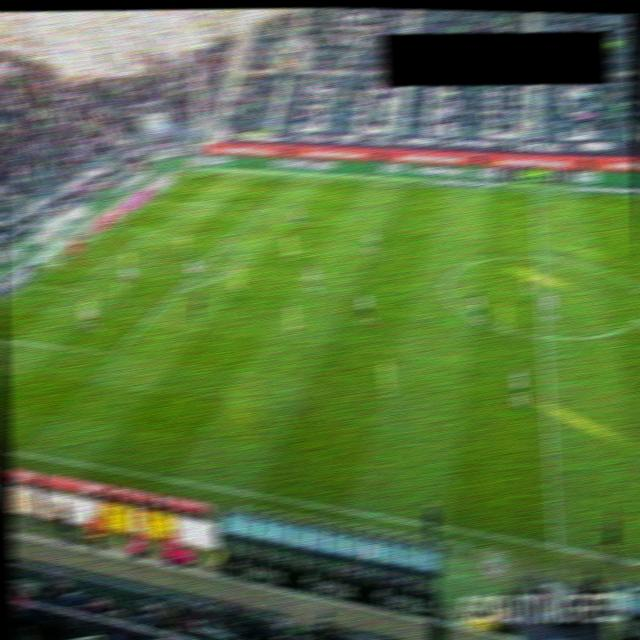bigarea_bottom_inner: (106, 346, 122, 357)
bigarea_top_inner: (251, 199, 268, 211)
bigarea_top_outter: (144, 193, 161, 206)
bottom_arc_area_intersection: (168, 284, 184, 295)
corner: (182, 167, 198, 179)
halfcircle_bottom: (535, 330, 552, 342)
halfcircle_top: (531, 249, 547, 262)
midline_bottom_intersection: (547, 539, 564, 550)
midline_top_intersection: (527, 185, 543, 196)
smallarea_bottom_inner: (64, 282, 80, 294)
smallarea_bottom_outter: (21, 277, 37, 290)
smallarea_top_inner: (143, 223, 159, 234)
smallarea_top_outter: (106, 219, 123, 231)
top_arc_area_intersection: (219, 232, 236, 243)
